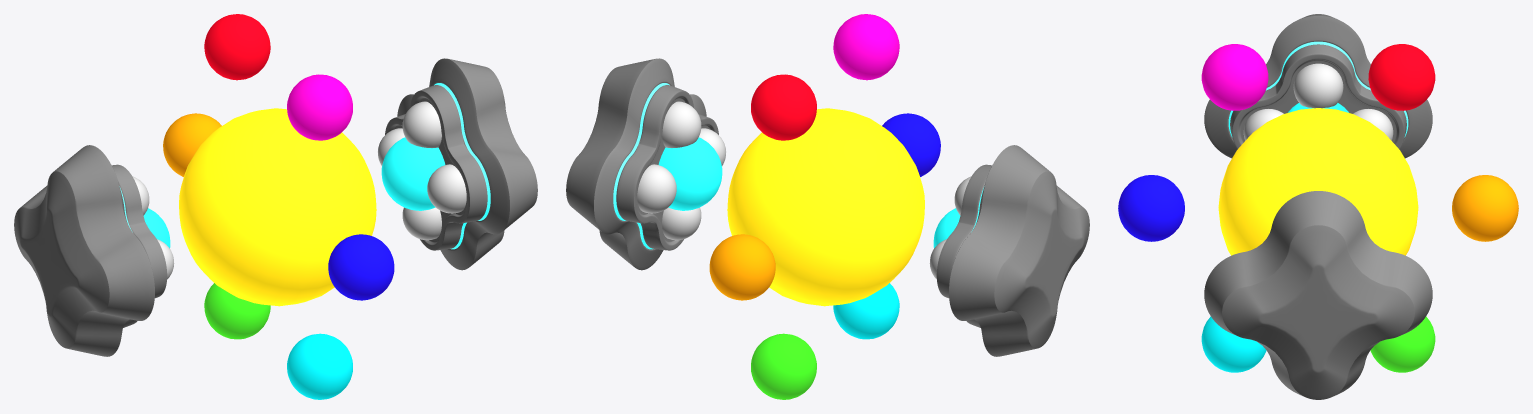
The model's file is Polaroid.glb.
3 renders of one model, left to right at view 1: azimuth 30°, elevation 25°; view 2: azimuth 150°, elevation 25°; view 3: azimuth 270°, elevation 25°, orthographic.
Visible parts, largest first — view 1: Polaroid, Emitter, Polaroid.Catalyst, Color.004, Color.006, Color.005, Color.003, Color.002, Color.001, Gravo.005, Gravo.004, Gravo.006; view 2: Polaroid, Emitter, Polaroid.Catalyst, Color.001, Color.005, Color.006, Color.002, Color.003, Color.004, Gravo.007, Gravo.004, Gravo.006; view 3: Polaroid, Emitter, Color.005, Color.006, Color.001, Color.004, Color.002, Color.003, Gravo, Gravo.001, Gravo.003.
Part boxes in pixels (<box>): Polaroid: <box>14,58,537,356</box>; Emitter: <box>179,108,376,306</box>; Polaroid.Catalyst: <box>143,137,445,248</box>; Color.004: <box>328,234,394,300</box>; Color.006: <box>204,14,270,80</box>; Color.005: <box>287,74,352,140</box>; Color.003: <box>287,333,352,399</box>; Color.002: <box>204,283,270,339</box>; Color.001: <box>163,113,221,176</box>; Gravo.005: <box>427,164,466,213</box>; Gravo.004: <box>402,101,441,147</box>; Gravo.006: <box>402,207,441,240</box>; Polaroid: <box>566,58,1089,356</box>; Emitter: <box>727,108,924,306</box>; Polaroid.Catalyst: <box>658,137,960,248</box>; Color.001: <box>709,234,775,300</box>; Color.005: <box>833,14,899,80</box>; Color.006: <box>751,74,816,140</box>; Color.002: <box>751,333,816,399</box>; Color.003: <box>833,283,899,339</box>; Color.004: <box>882,113,940,176</box>; Gravo.007: <box>637,164,676,213</box>; Gravo.004: <box>662,101,701,147</box>; Gravo.006: <box>662,207,701,240</box>; Polaroid: <box>1204,14,1432,399</box>; Emitter: <box>1218,108,1418,255</box>; Color.005: <box>1201,44,1268,110</box>; Color.006: <box>1368,44,1435,110</box>; Color.001: <box>1452,175,1518,241</box>; Color.004: <box>1118,175,1184,241</box>; Color.002: <box>1370,316,1435,372</box>; Color.003: <box>1201,316,1266,372</box>; Gravo: <box>1293,63,1343,108</box>; Gravo.001: <box>1353,109,1393,140</box>; Gravo.003: <box>1243,109,1283,140</box>.
Bounding box in the file's own units: 3.7 × 2.49 × 2.8.
